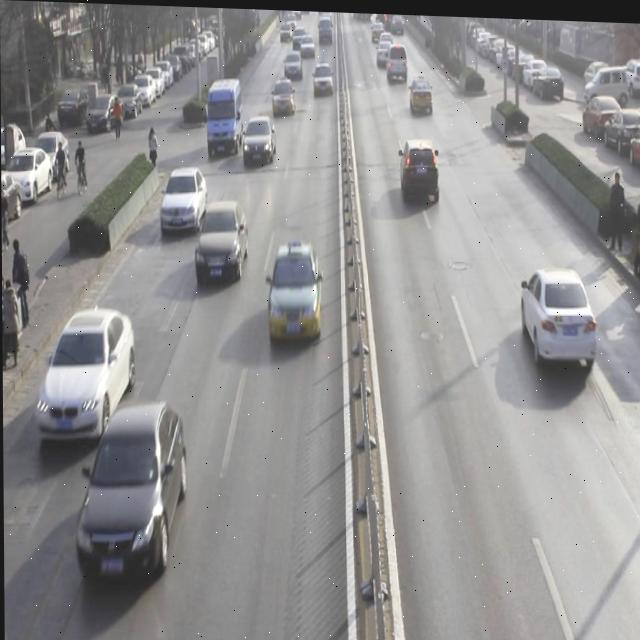car: (73, 404, 186, 589), (35, 311, 136, 439), (520, 263, 597, 375), (267, 240, 323, 347), (198, 200, 248, 285), (160, 164, 208, 235), (399, 137, 441, 206), (243, 115, 277, 167), (272, 75, 296, 118), (410, 72, 433, 112), (311, 59, 334, 98), (283, 50, 303, 81)
truck: (205, 75, 243, 159), (385, 41, 408, 80)
